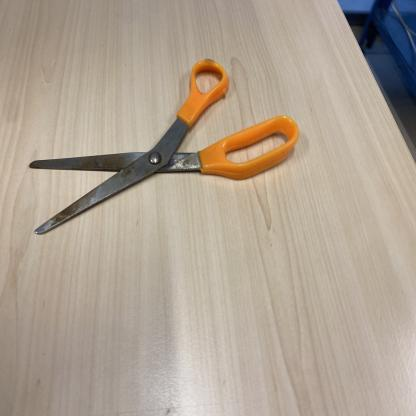scissors: (30, 57, 300, 235)
